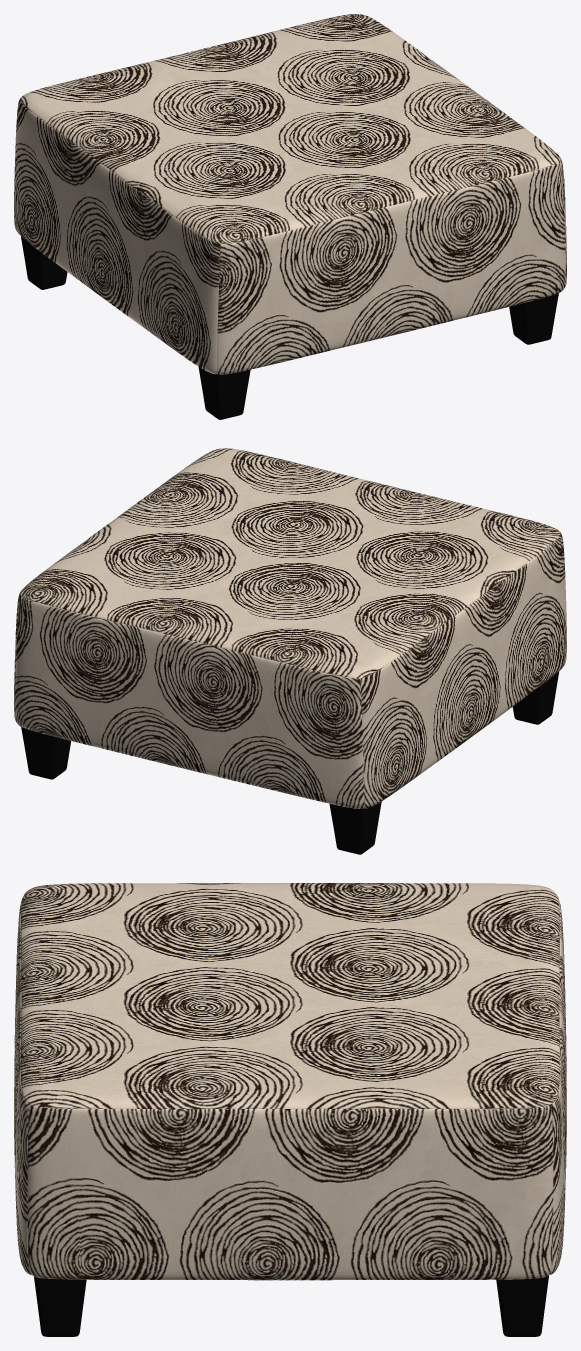
Rendered from ALCT4979_v6_LOD2.obj.
3 views of the same model, one above another, from view 1: azimuth 30°, elevation 25°; view 2: azimuth 150°, elevation 25°; view 3: azimuth 270°, elevation 25° (orthographic). The views are drawn at different scales.
Parts seen in each view (by area): view 1: not_clear_obj_0_v6, not_clear_obj_1_v6; view 2: not_clear_obj_0_v6, not_clear_obj_1_v6; view 3: not_clear_obj_0_v6, not_clear_obj_1_v6.
Part boxes in pixels (x1=…): not_clear_obj_0_v6: x1=14, y1=14, x2=566, y2=374; not_clear_obj_1_v6: x1=21, y1=236, x2=558, y2=419; not_clear_obj_0_v6: x1=14, y1=448, x2=566, y2=808; not_clear_obj_1_v6: x1=21, y1=671, x2=559, y2=854; not_clear_obj_0_v6: x1=14, y1=883, x2=566, y2=1280; not_clear_obj_1_v6: x1=34, y1=1275, x2=548, y2=1336.
Size of what is drawn, in the model's own units: 104 by 50.8 by 104.
2 materials, 2 textured.
